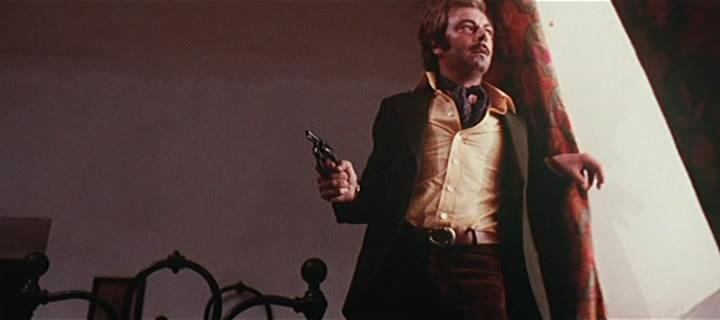gun: (291, 119, 358, 204)
